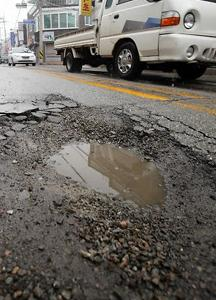pothole: (43, 123, 169, 211)
